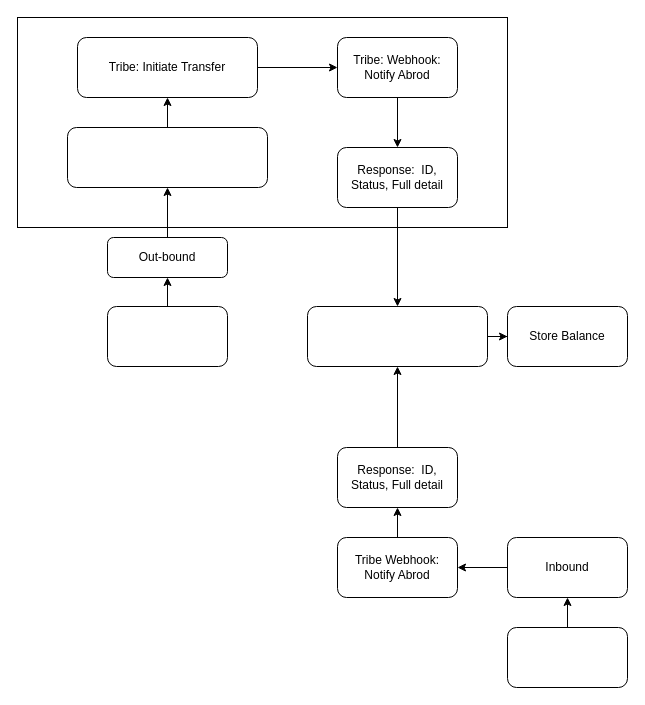
Image size: 645x705. Some labels were removed from this diagram. The shapes that lost their labels are listed below. From the top down, each one's centre as x and y in pixels, then its label:
At pixel 167 157: "Request: [IBAN, Sort Code, FName, Email]".
At pixel 167 336: "Transfers".
At pixel 397 336: "Check Balance: Tribe".
At pixel 567 657: "External Source".
